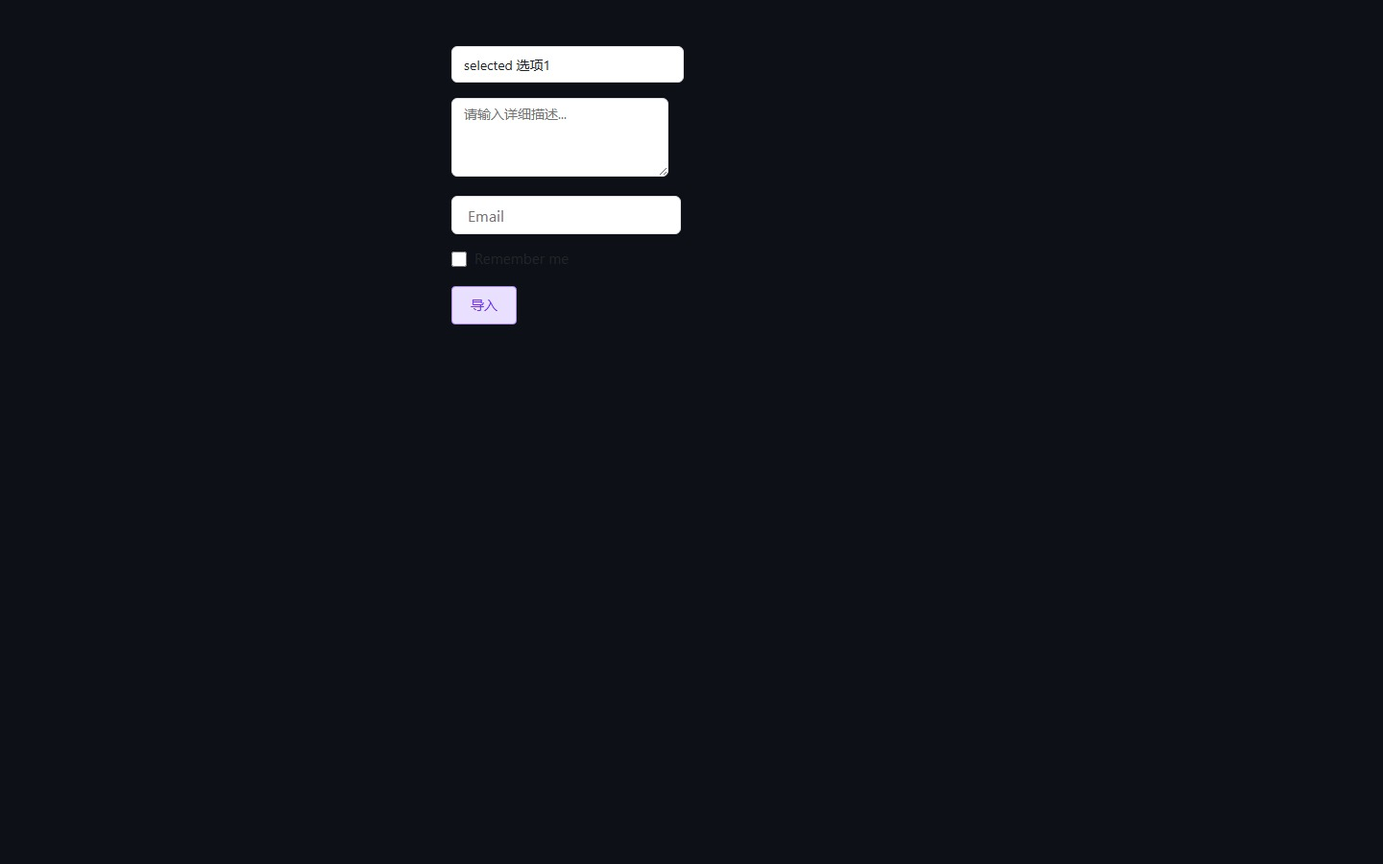button: (451, 286, 517, 324)
checkbox: (451, 251, 467, 266)
icon: (474, 250, 569, 268)
input: (451, 196, 681, 234)
radio: (451, 250, 569, 268)
select: (451, 46, 684, 83)
textarea: (451, 98, 668, 177)
